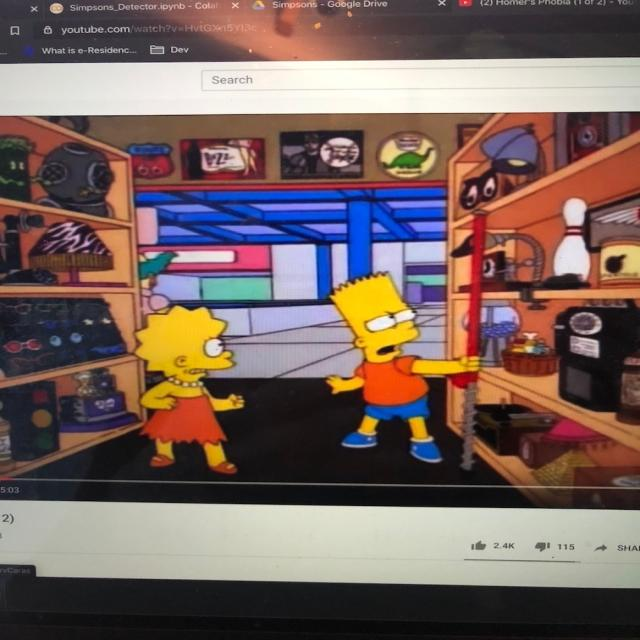Bart Simpson: (325, 266, 425, 366)
Lisa Simpson: (127, 301, 239, 390)
